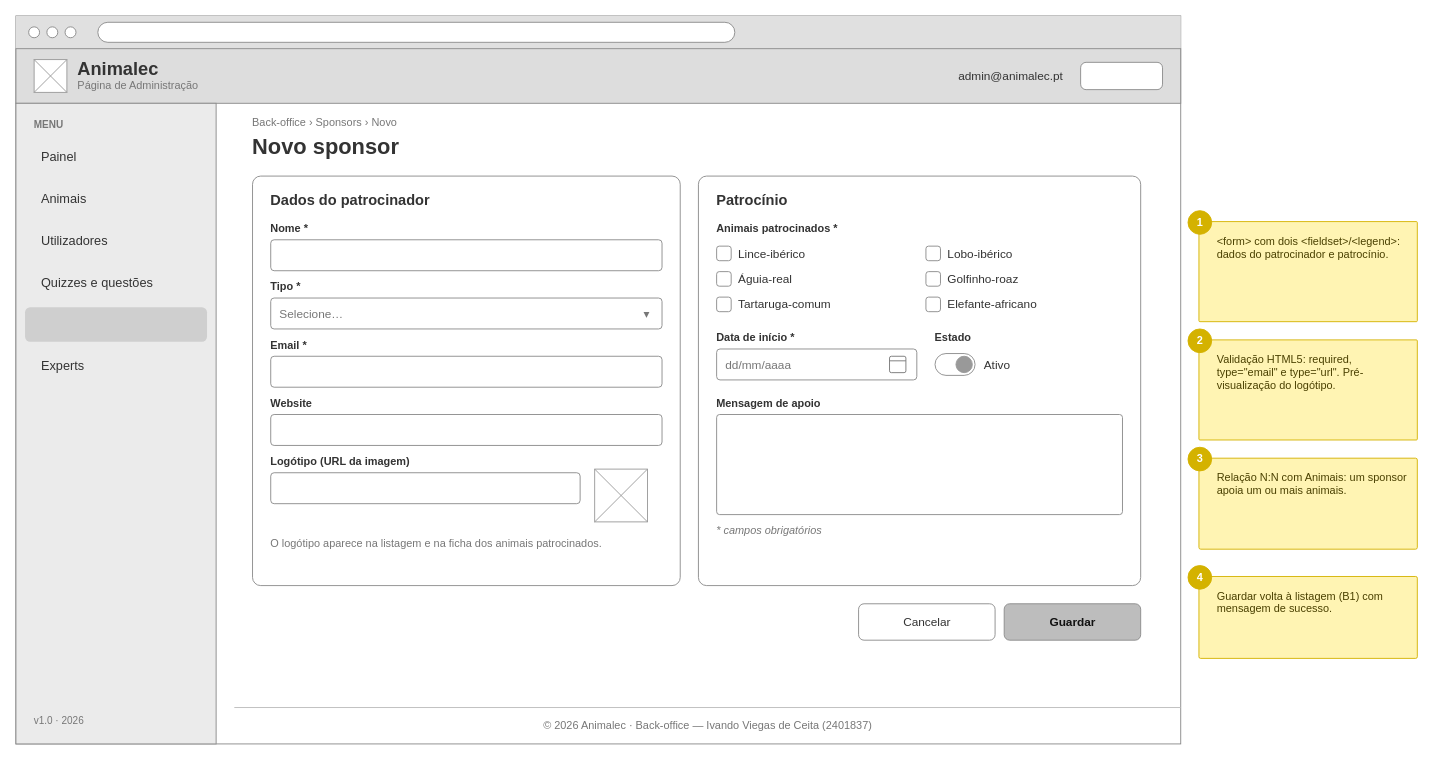
Some shapes in this 1433 by 760 pixel diagram are drawn without their labels. The shapes that lost their labels are listed below. From the top down, each one's centre as x and y in pixels, then its label:
point (416, 31): animalec.pt/admin/#/sponsors/novo
point (1121, 75): Sair
point (116, 324): Sponsors
